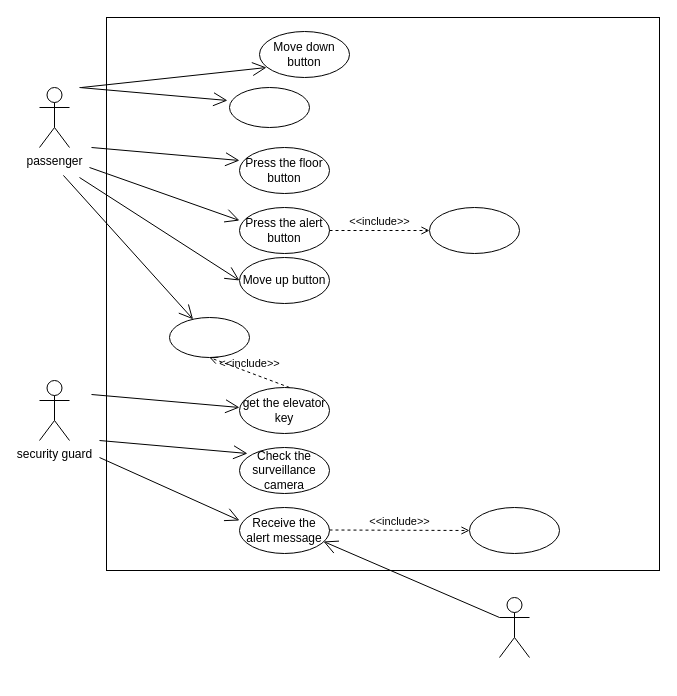
The diagram is 677 pixels wide and 696 high, and some of its shapes have lost their labels. The box of each missing label's shape, as (x1, y1, x2, y2) in pixels:
Close the door: (228, 86, 310, 128)
Elevator repairman: (498, 596, 530, 658)
Open the door: (168, 316, 250, 358)
Repair the elevator: (468, 506, 560, 554)
send the alert message: (428, 206, 520, 254)
